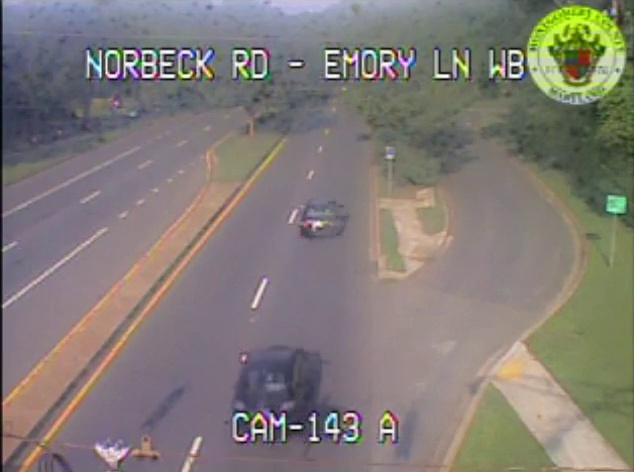car: (234, 348, 310, 430), (300, 200, 339, 237)
